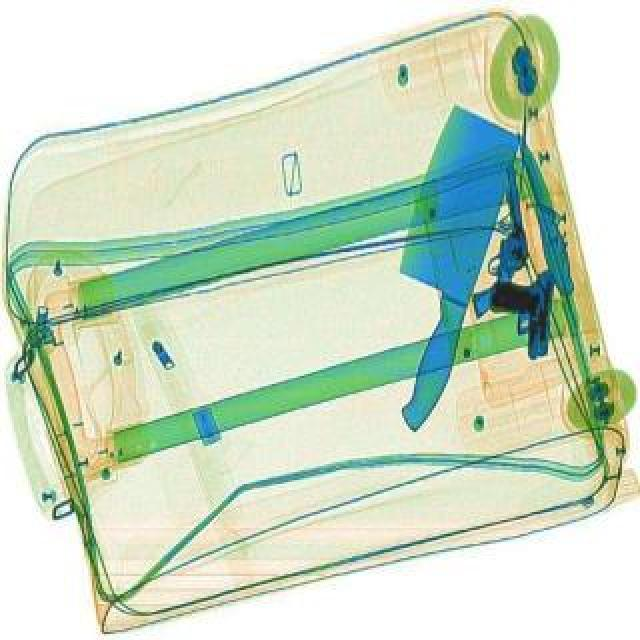gun: (448, 164, 540, 318), (486, 268, 554, 358)
knife: (354, 100, 526, 432), (504, 128, 580, 294)
